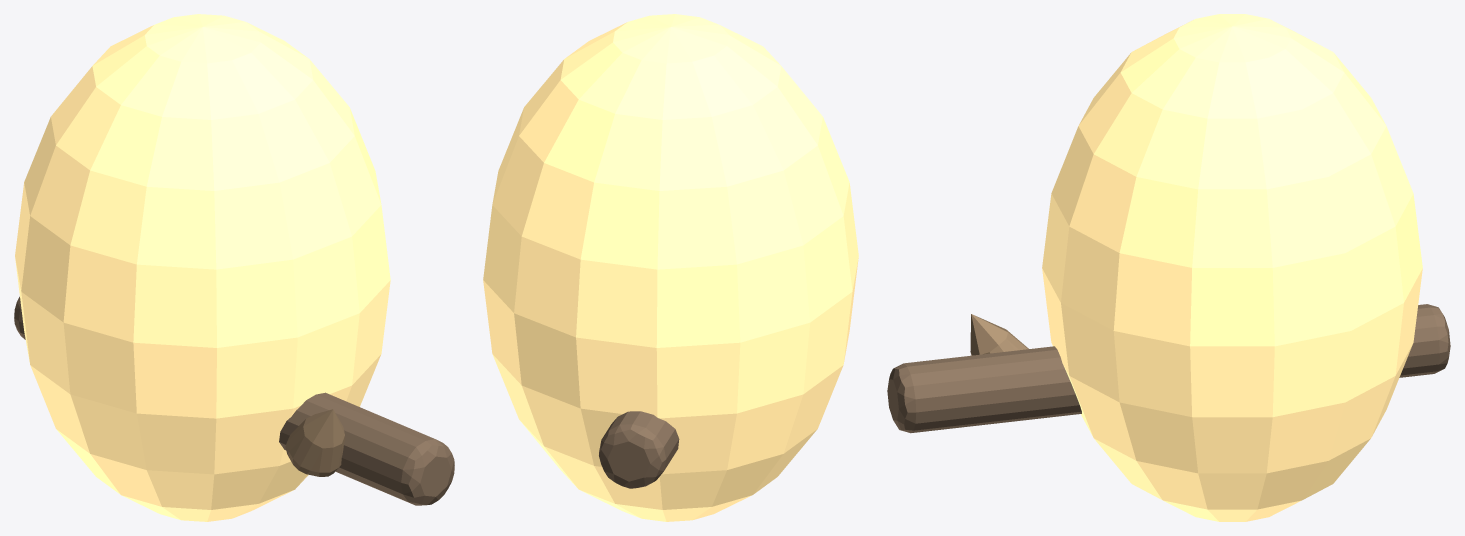
File: bramble_resin.glb
3 renders of one model, left to right at view 1: azimuth 30°, elevation 25°; view 2: azimuth 150°, elevation 25°; view 3: azimuth 270°, elevation 25°, orthographic.
Visible parts, largest first — view 1: Resin, Vine, Thorn0; view 2: Resin, Vine; view 3: Resin, Vine, Thorn0.
Boxes of the visible parts, box(x1,y1,x2,y2) form: Resin: box(15, 14, 390, 521); Vine: box(14, 296, 454, 505); Thorn0: box(285, 409, 345, 476); Resin: box(483, 14, 858, 521); Vine: box(599, 411, 679, 488); Resin: box(1042, 14, 1422, 521); Vine: box(887, 304, 1450, 433); Thorn0: box(970, 314, 1028, 355).
Size of the model in its own units: 0.117 by 0.168 by 0.1775.
